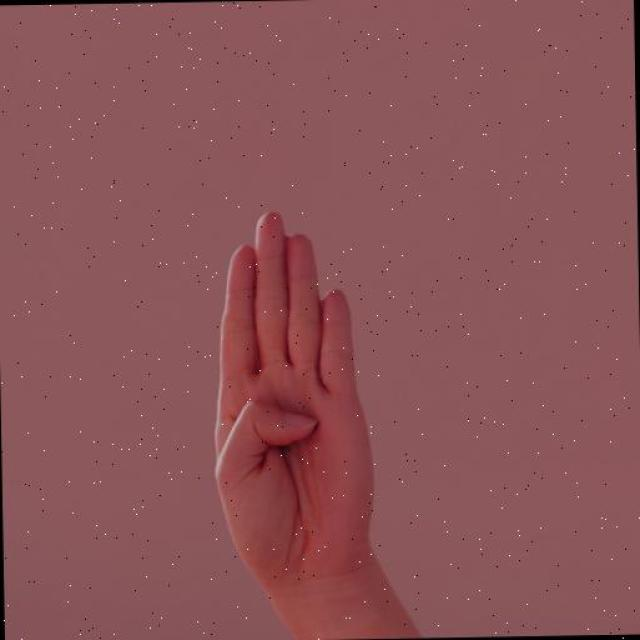B: (199, 200, 387, 598)
